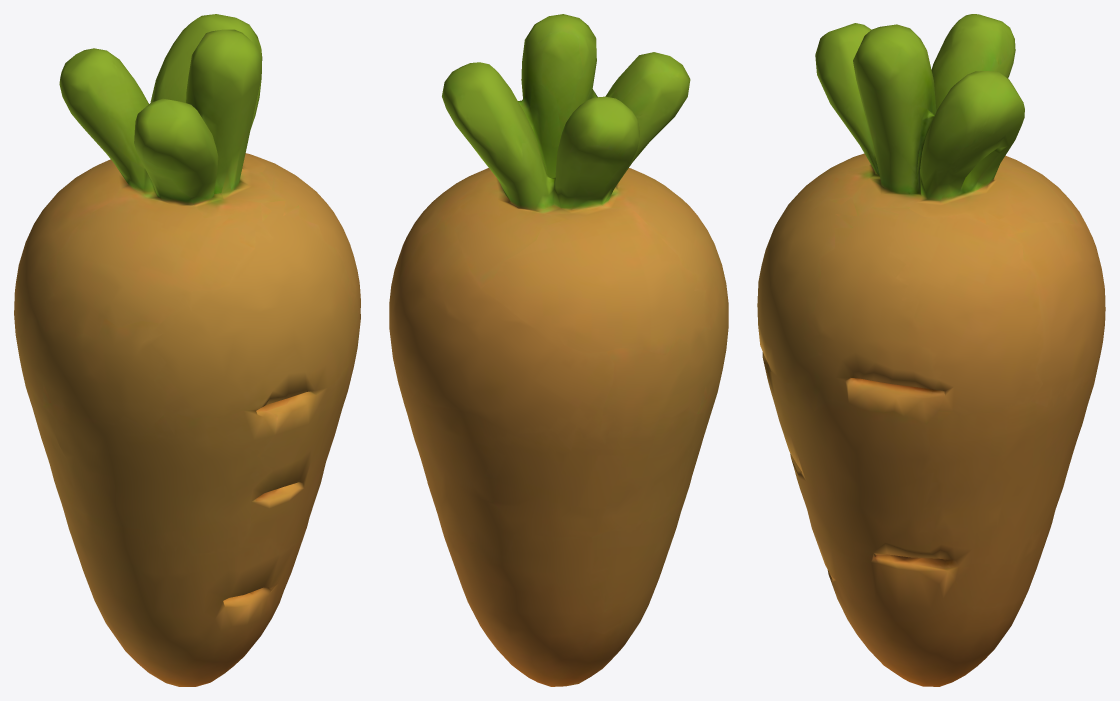
Rendered from carrot.glb.
3 renders of one model, left to right at view 1: azimuth 30°, elevation 25°; view 2: azimuth 150°, elevation 25°; view 3: azimuth 270°, elevation 25°, orthographic. The views are drawn at different scales.
Parts seen in each view (by area): view 1: tripo_node_f20e3868-7c83-47a7-b1b0-16c738cfe173; view 2: tripo_node_f20e3868-7c83-47a7-b1b0-16c738cfe173; view 3: tripo_node_f20e3868-7c83-47a7-b1b0-16c738cfe173.
Boxes of the visible parts, bbox=[...] form: tripo_node_f20e3868-7c83-47a7-b1b0-16c738cfe173: bbox=[14, 14, 360, 686]; tripo_node_f20e3868-7c83-47a7-b1b0-16c738cfe173: bbox=[389, 14, 728, 686]; tripo_node_f20e3868-7c83-47a7-b1b0-16c738cfe173: bbox=[757, 14, 1105, 686].
Size of the model in its own units: 0.4768 by 0.9998 by 0.4769.
Materials: 1 (1 with a texture image).
